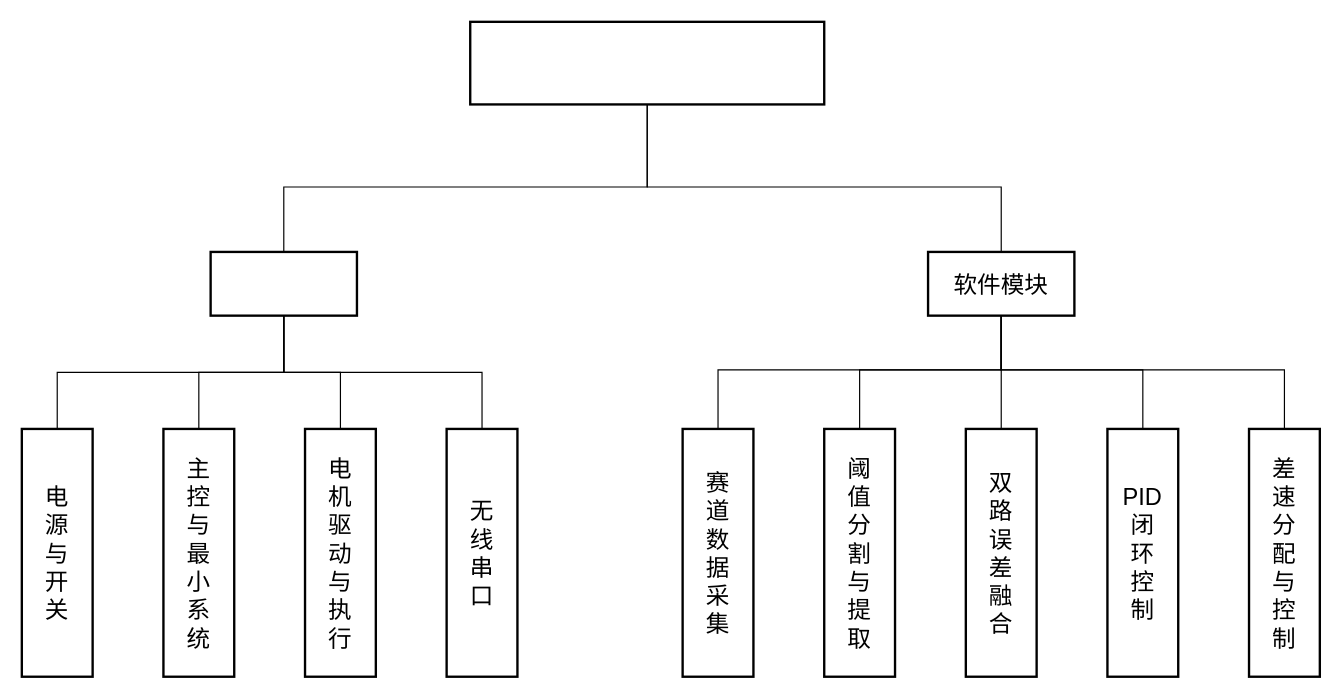
Some shapes in this 1340 by 697 pixel diagram are drawn without their labels. The shapes that lost their labels are listed below. From the top down, each one's box as (x1, y1, x2, y2) in pixels, then its label:
(468, 20, 825, 105): NXP三轮竞速赛车的设计与制作
(209, 250, 358, 316): 硬件模块
